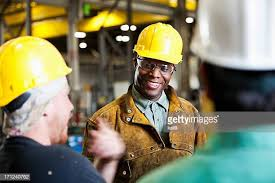Person_wearing_helmet: (128, 20, 186, 72)
